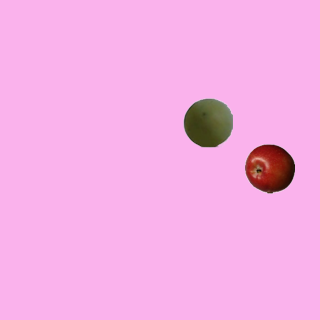Apple Braeburn: (244, 143, 294, 193)
Grape White 4: (182, 97, 232, 147)
